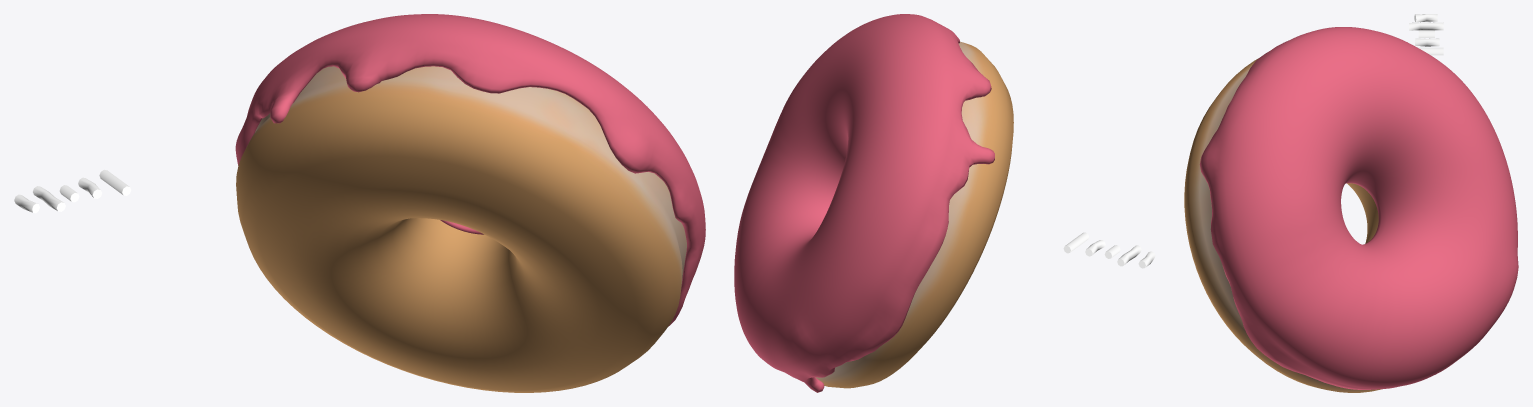
File: donut.gltf
3 renders of one model, left to right at view 1: azimuth 30°, elevation 25°; view 2: azimuth 150°, elevation 25°; view 3: azimuth 270°, elevation 25°, orthographic. The views are drawn at different scales.
Parts seen in each view (by area): view 1: Donut, Icing; view 2: Icing, Donut; view 3: Icing, Donut, Sprinkles4.
Boxes of the visible parts, x1=… form: Donut: x1=236, y1=66, x2=686, y2=392; Icing: x1=235, y1=14, x2=705, y2=326; Icing: x1=734, y1=14, x2=994, y2=392; Donut: x1=816, y1=41, x2=1013, y2=388; Icing: x1=1199, y1=27, x2=1518, y2=389; Donut: x1=1184, y1=58, x2=1380, y2=392; Sprinkles4: x1=1409, y1=22, x2=1443, y2=30.
Size of the model in its own units: 0.1394 by 0.0947 by 0.0908.
Materials: 3 (1 with a texture image).
